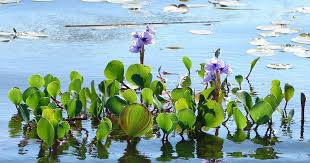water_hyacinth: (8, 27, 294, 150)
